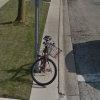Bicycle: (16, 28, 65, 97)
